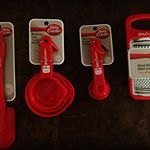other: (25, 67, 84, 122)
